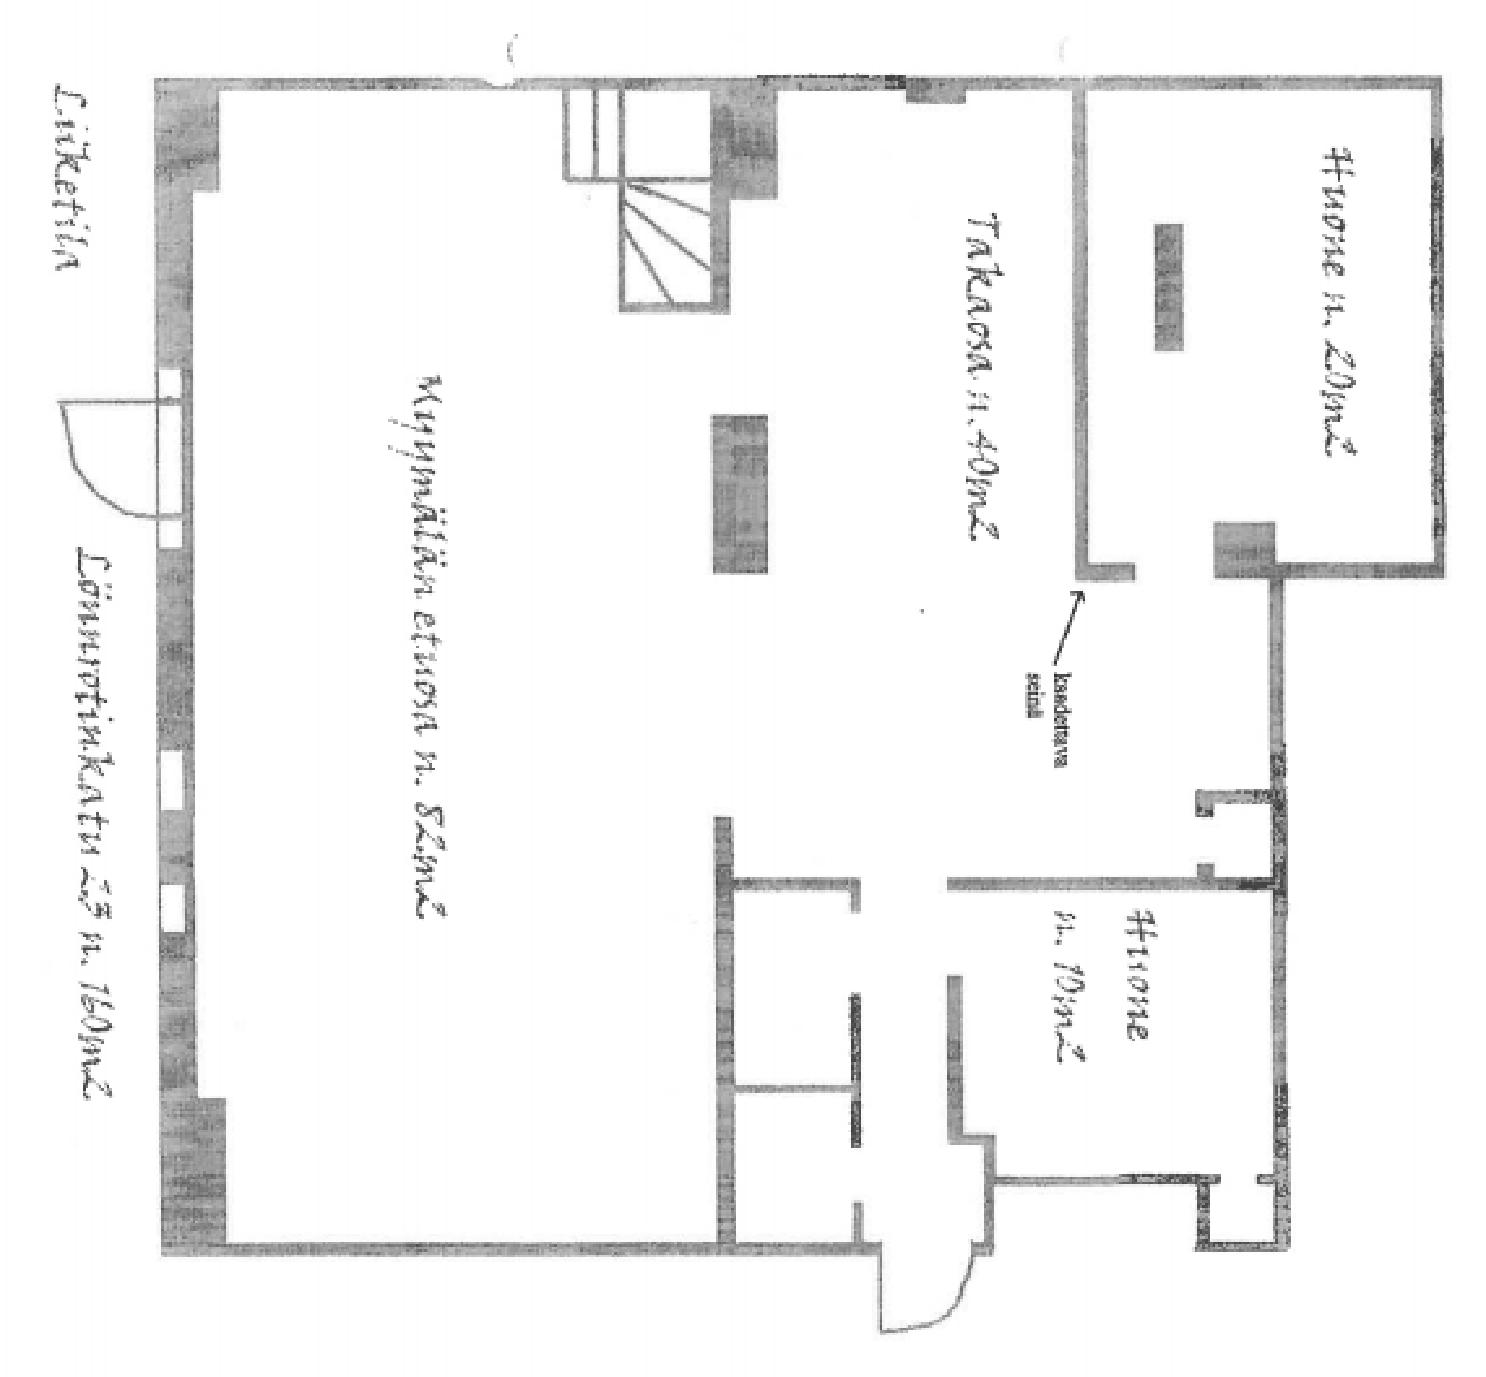door: (201, 89, 1278, 1242), (1086, 85, 1414, 558)
window: (57, 395, 186, 529), (862, 1246, 981, 1336)
zone: (154, 747, 189, 817), (159, 877, 186, 934)
